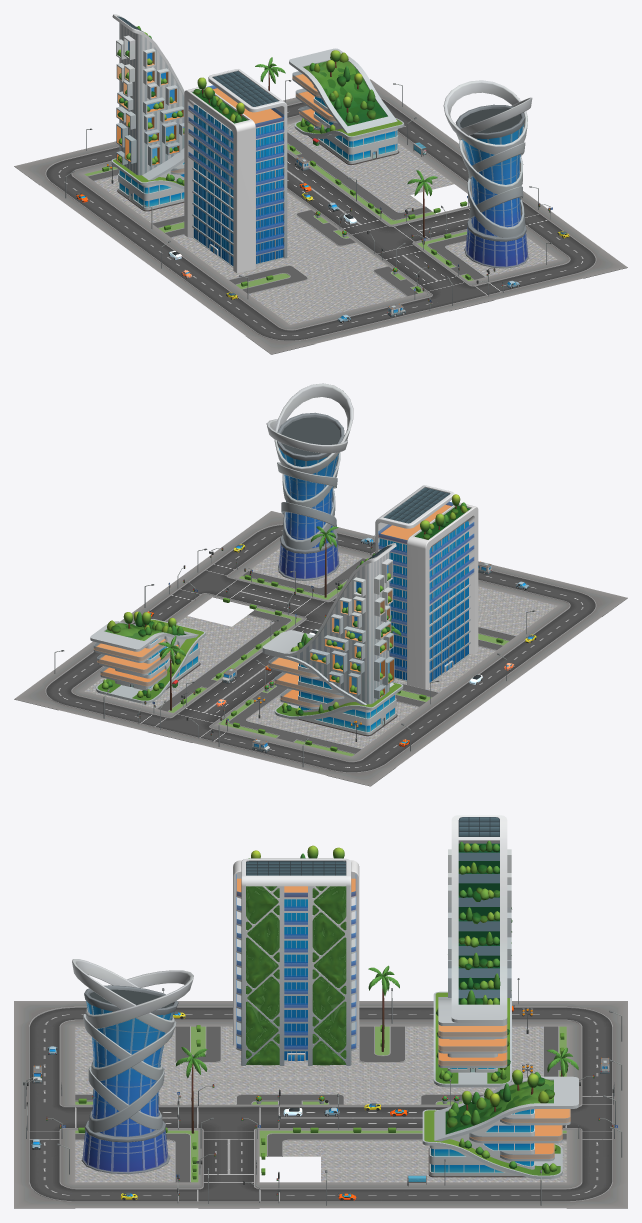
Rendered from city_map02old.glb.
The picture shows the model from 3 angles, top to bottom: view 1: azimuth 30°, elevation 25°; view 2: azimuth 150°, elevation 25°; view 3: azimuth 270°, elevation 25°; orthographic projection. The views are drawn at different scales.
Visible parts, largest first — view 1: Eco_Building_Grid.005, Eco_Building_Slope.005, Regular_Building_TwistedTower_Large.004, Eco_Building_Terrace.008, road_013.036, road_013.018, road_013.020, road_019.005, Set_B_Tiles_09.017, road_009.231, road_009.008, Set_B_Tiles_09.005 (+46 smaller); view 2: Eco_Building_Grid.005, Eco_Building_Slope.005, Regular_Building_TwistedTower_Large.004, Eco_Building_Terrace.008, road_013.036, road_013.018, road_013.019, road_009.239, road_009.231, road_009.248, road_022.127, road_019.012 (+40 smaller); view 3: Eco_Building_Grid.005, Eco_Building_Slope.005, Regular_Building_TwistedTower_Large.004, Eco_Building_Terrace.008, road_009.245, road_022.070, road_009.246, Set_B_Tiles_09.154, road_022.127, road_003.008, road_009.244, Set_B_Tiles_05.112 (+54 smaller).
Part boxes in pixels (<box>): Eco_Building_Grid.005: <box>184,69,287,273</box>; Eco_Building_Slope.005: <box>111,14,184,211</box>; Regular_Building_TwistedTower_Large.004: <box>443,80,532,268</box>; Eco_Building_Terrace.008: <box>289,48,404,164</box>; road_013.036: <box>246,325,315,354</box>; road_013.018: <box>14,155,83,185</box>; road_013.020: <box>558,249,627,278</box>; road_019.005: <box>424,281,494,311</box>; Set_B_Tiles_09.017: <box>265,295,334,324</box>; road_009.231: <box>220,306,289,335</box>; road_009.008: <box>513,259,582,289</box>; Set_B_Tiles_09.005: <box>309,284,378,313</box>; Eco_Building_Grid.005: <box>375,485,478,689</box>; Eco_Building_Slope.005: <box>262,543,403,736</box>; Regular_Building_TwistedTower_Large.004: <box>266,383,353,580</box>; Eco_Building_Terrace.008: <box>90,611,205,703</box>; road_013.036: <box>558,587,627,616</box>; road_013.018: <box>326,756,396,786</box>; road_013.019: <box>14,680,83,710</box>; road_009.239: <box>281,745,351,775</box>; road_009.231: <box>532,606,601,635</box>; road_009.248: <box>59,691,128,720</box>; road_022.127: <box>143,586,212,615</box>; road_019.012: <box>148,713,217,742</box>; Eco_Building_Grid.005: <box>233,845,359,1065</box>; Eco_Building_Slope.005: <box>433,815,512,1087</box>; Regular_Building_TwistedTower_Large.004: <box>72,959,193,1174</box>; Eco_Building_Terrace.008: <box>422,1069,578,1178</box>; road_009.245: <box>443,1182,505,1208</box>; road_022.070: <box>136,1182,198,1208</box>; road_009.246: <box>505,1182,566,1208</box>; Set_B_Tiles_09.154: <box>321,1156,382,1182</box>; road_022.127: <box>259,1182,320,1208</box>; road_003.008: <box>198,1104,259,1130</box>; road_009.244: <box>382,1182,443,1208</box>; Set_B_Tiles_05.112: <box>321,1130,382,1156</box>.
Size of the model in its own units: 120 by 57.49 by 150.
20 materials, 18 textured.
